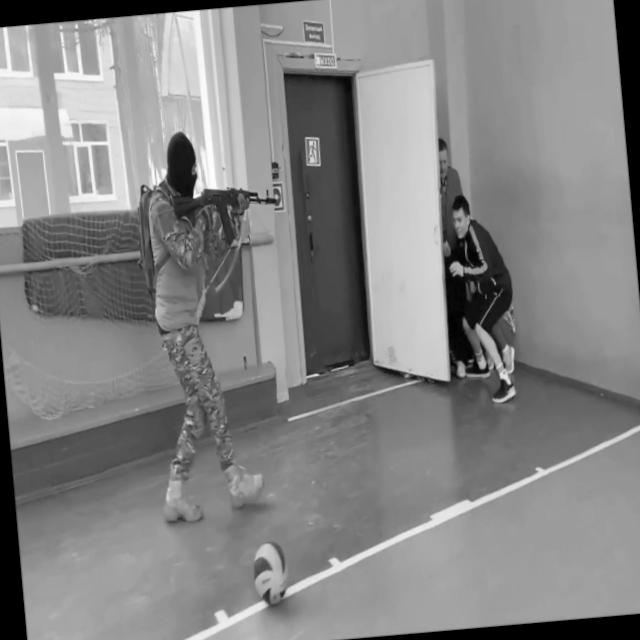gun: (168, 178, 282, 252)
person: (440, 190, 522, 408)
person with a gun: (128, 120, 306, 524)
